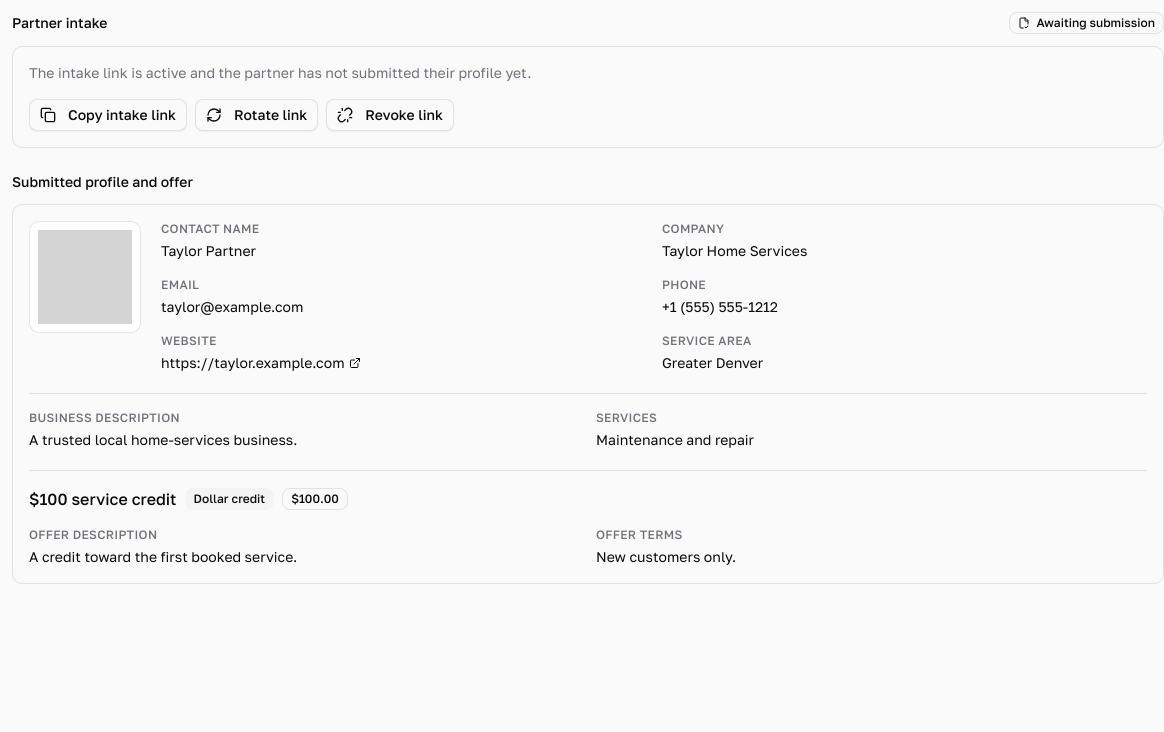
ReferralPartnerIntakePanel › issues and copies an active intake link for a manager
Click the button "Copy intake link" at (108, 115), box [29,99,187,131]
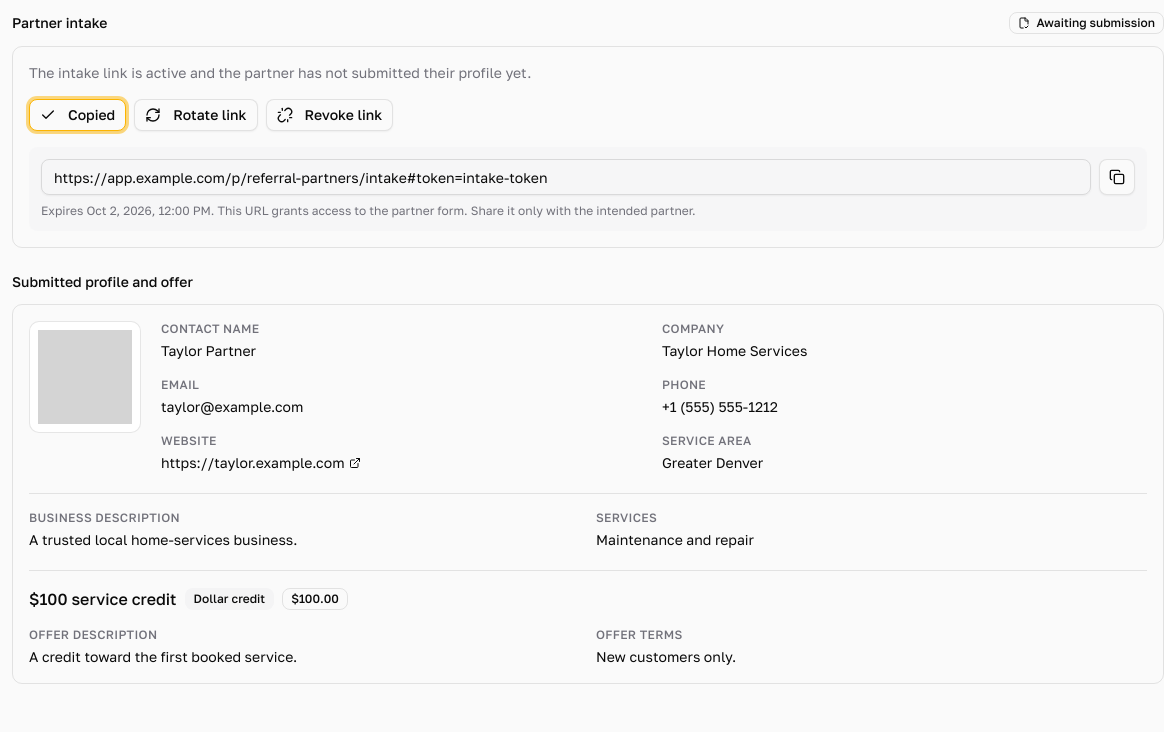
Expected: the field named "Referral partner intake link" holds "https://app.example.com/p/referral-partners/intake#token=intake-token", [41,159,1091,195]
Expected: the button "Copied" is shown, [29,99,126,131]
